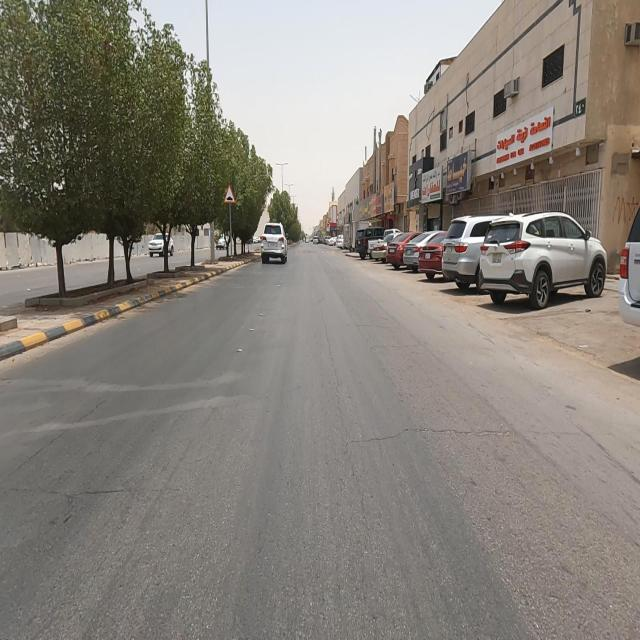Graffiti: (612, 196, 639, 227)
